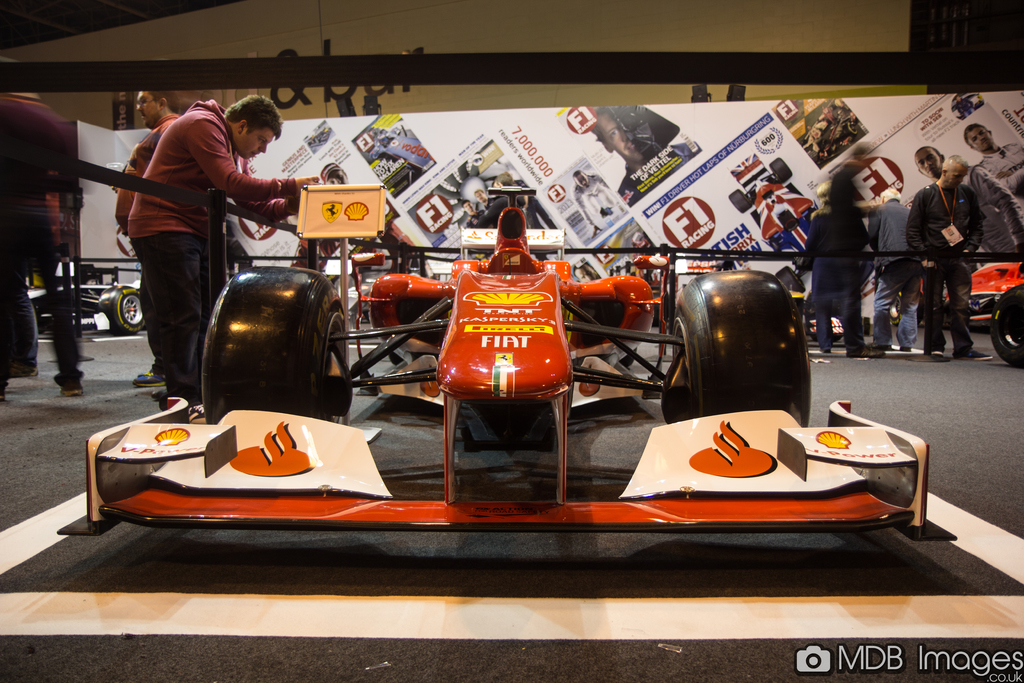Car: (61, 185, 935, 540), (728, 153, 822, 288), (940, 250, 1023, 360), (30, 256, 151, 330)
